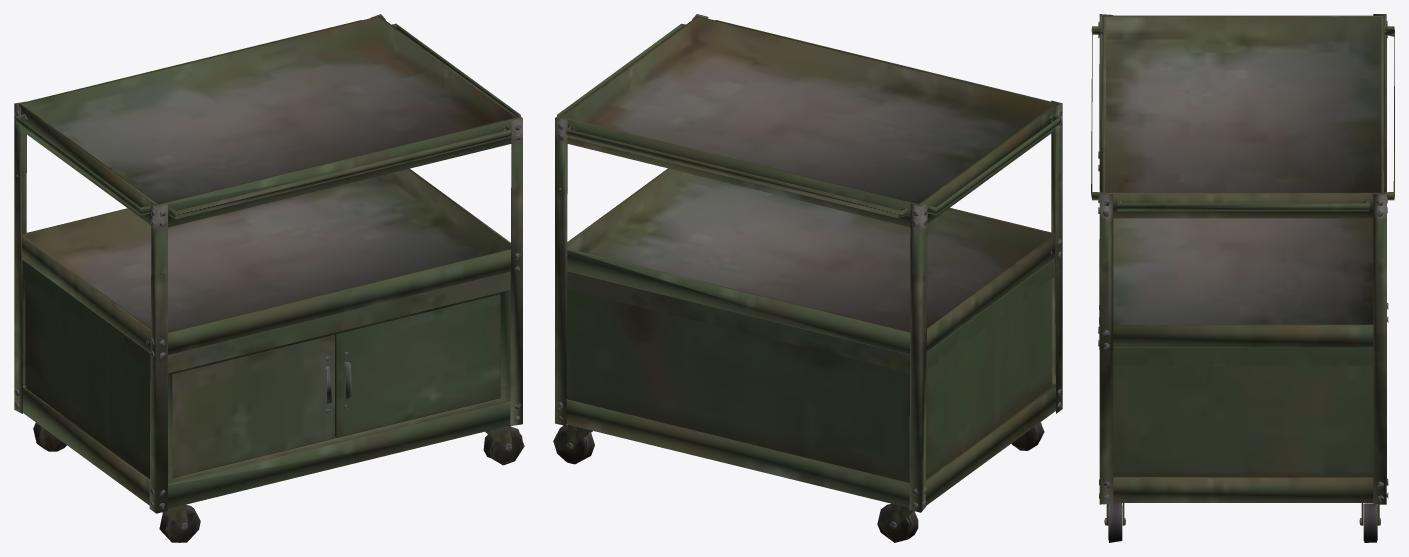
The model's file is storage_cart.glb.
3 views of the same model, side by side, from view 1: azimuth 30°, elevation 25°; view 2: azimuth 150°, elevation 25°; view 3: azimuth 270°, elevation 25° (orthographic).
Parts seen in each view (by area): view 1: industrial_storage_cart; view 2: industrial_storage_cart; view 3: industrial_storage_cart.
Boxes of the visible parts, x1,y1,x2,y2 form: industrial_storage_cart: (14,14,524,542); industrial_storage_cart: (553,14,1062,542); industrial_storage_cart: (1091,14,1394,542).
Size of the model in its own units: 1.58 by 1.38 by 1.08.
Materials: 1 (1 with a texture image).
